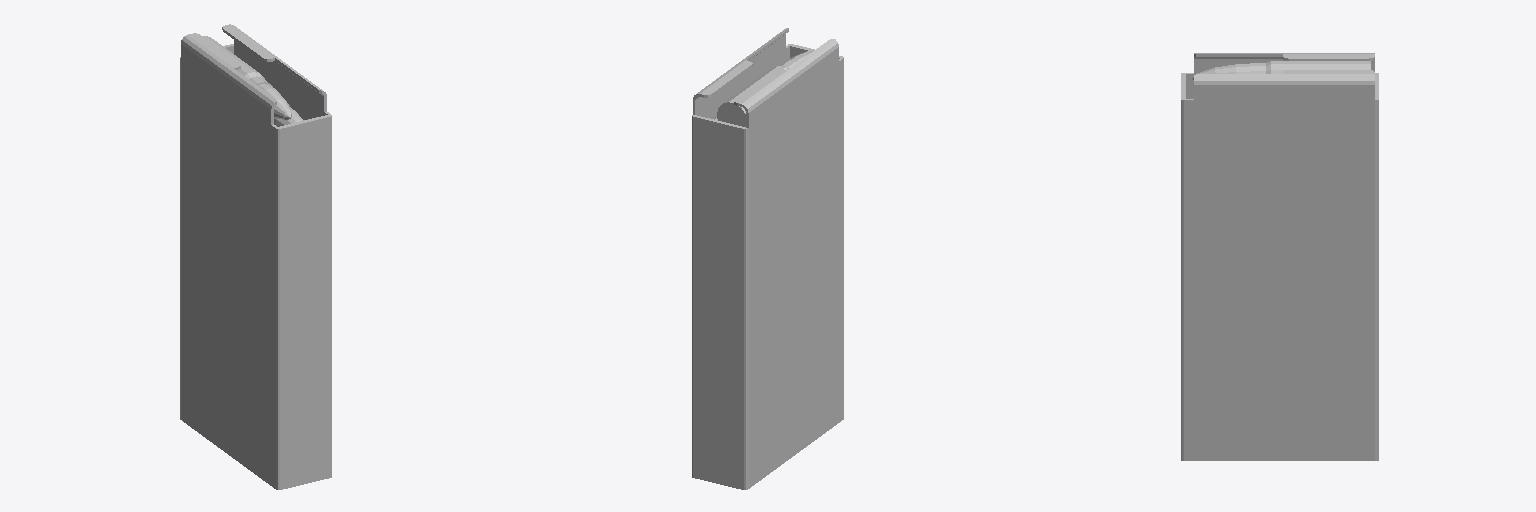
Rendered from magazine_9a91.obj.
3 renders of one model, left to right at view 1: azimuth 30°, elevation 25°; view 2: azimuth 150°, elevation 25°; view 3: azimuth 270°, elevation 25°, orthographic.
Visible parts, largest first — view 1: magazine, cartridge; view 2: magazine, cartridge; view 3: magazine, cartridge.
Part boxes in pixels (x1,y1,x2,y2): magazine: (180, 24, 331, 489); cartridge: (203, 36, 291, 119); magazine: (692, 28, 843, 489); cartridge: (717, 51, 812, 126); magazine: (1181, 53, 1378, 460); cartridge: (1192, 61, 1370, 79).
Size of the model in its own units: 0.8056 by 5.29 by 2.48.